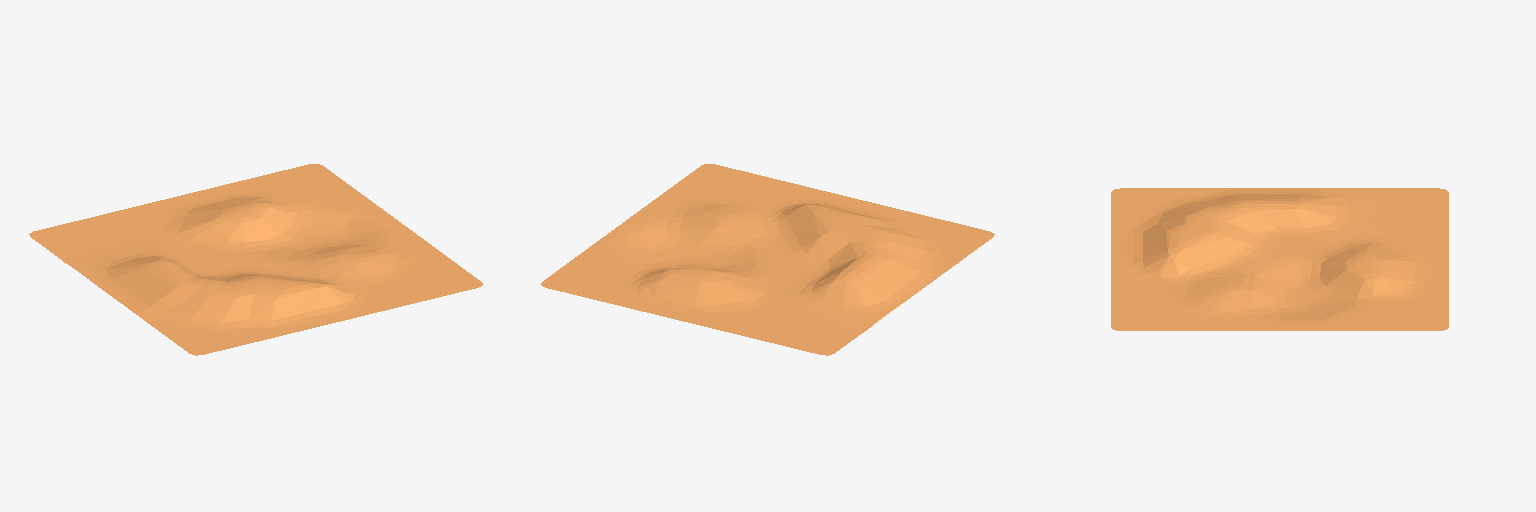
The model's file is Ground11.obj.
3 views of the same model, side by side, from view 1: azimuth 30°, elevation 25°; view 2: azimuth 150°, elevation 25°; view 3: azimuth 270°, elevation 25° (orthographic).
Visible parts, largest first — view 1: Plane; view 2: Plane; view 3: Plane.
Part boxes in pixels (x1,y1,x2,y2): Plane: (29,164,482,355); Plane: (541,164,994,355); Plane: (1111,188,1448,330).
Bounding box in the file's own units: 401 × 23.72 × 400.